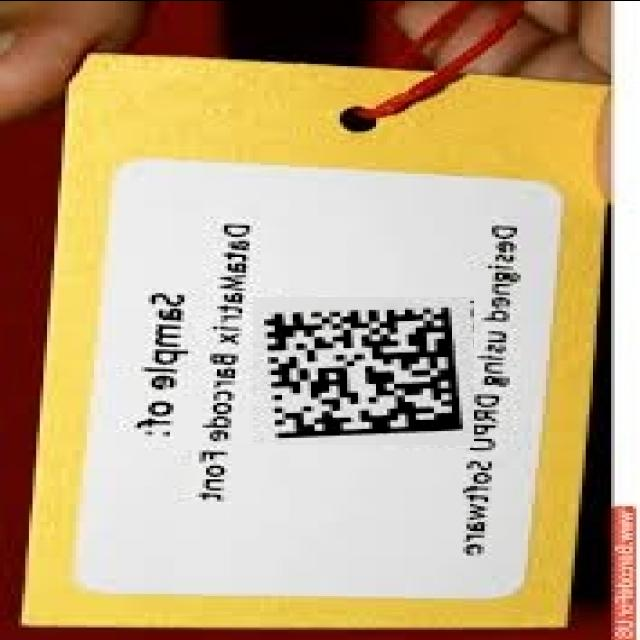DataMatrix: (253, 297, 474, 445)
